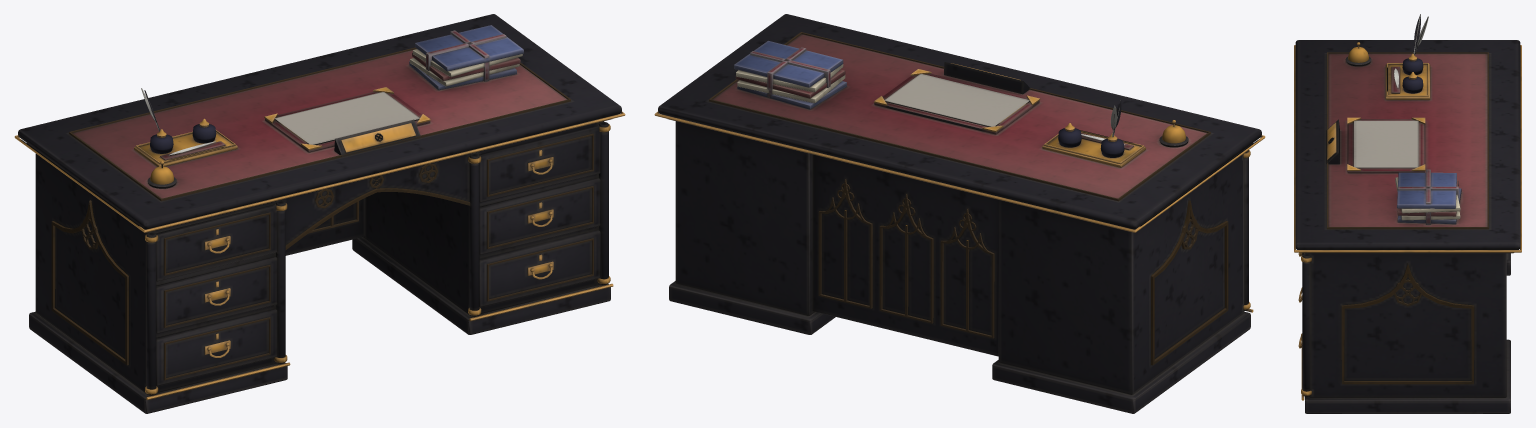
The model's file is HeadmasterDesk.fbx.
3 renders of one model, left to right at view 1: azimuth 30°, elevation 25°; view 2: azimuth 150°, elevation 25°; view 3: azimuth 270°, elevation 25°, orthographic. The views are drawn at different scales.
Visible parts, largest first — view 1: HeadmasterDesk_Main, HeadmasterDesk_Drawer0; view 2: HeadmasterDesk_Main; view 3: HeadmasterDesk_Main.
Boxes of the visible parts, x1,y1,x2,y2 form: HeadmasterDesk_Main: (14, 14, 625, 413); HeadmasterDesk_Drawer0: (479, 125, 600, 202); HeadmasterDesk_Main: (654, 14, 1265, 413); HeadmasterDesk_Main: (1294, 14, 1521, 413).
Size of the model in its own units: 789 by 409 by 369.
